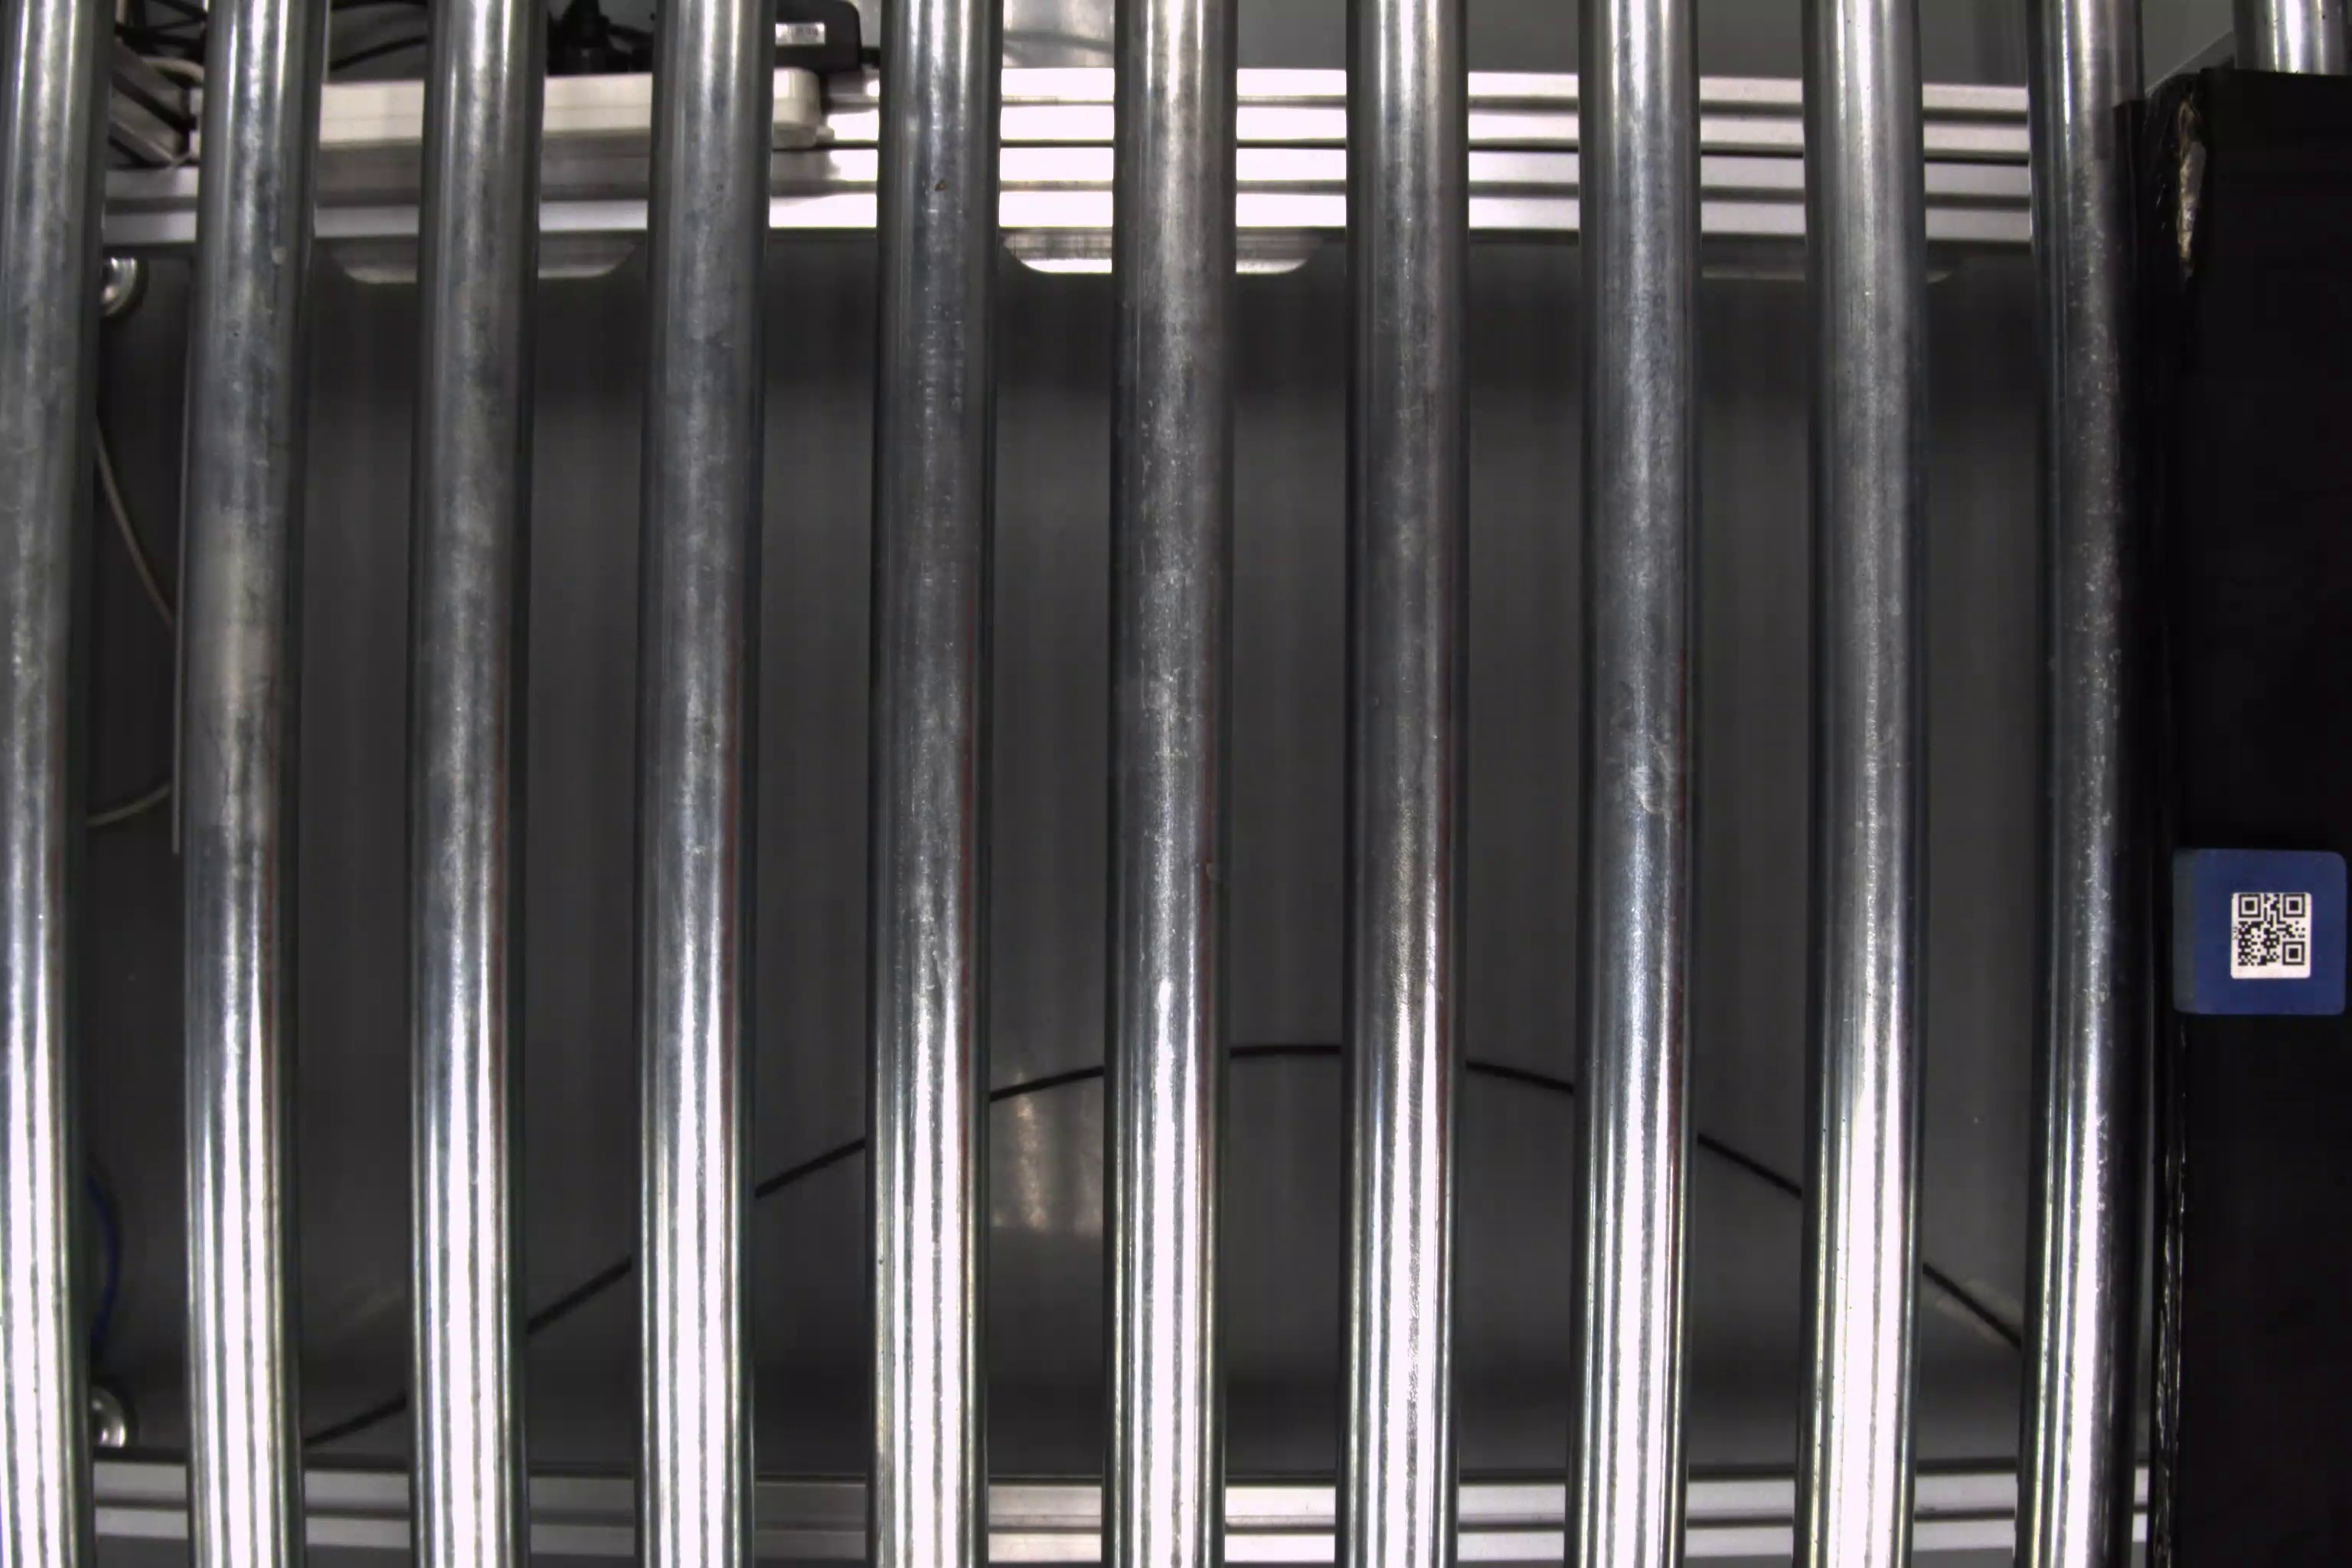wood: (2173, 842, 2347, 1018)
